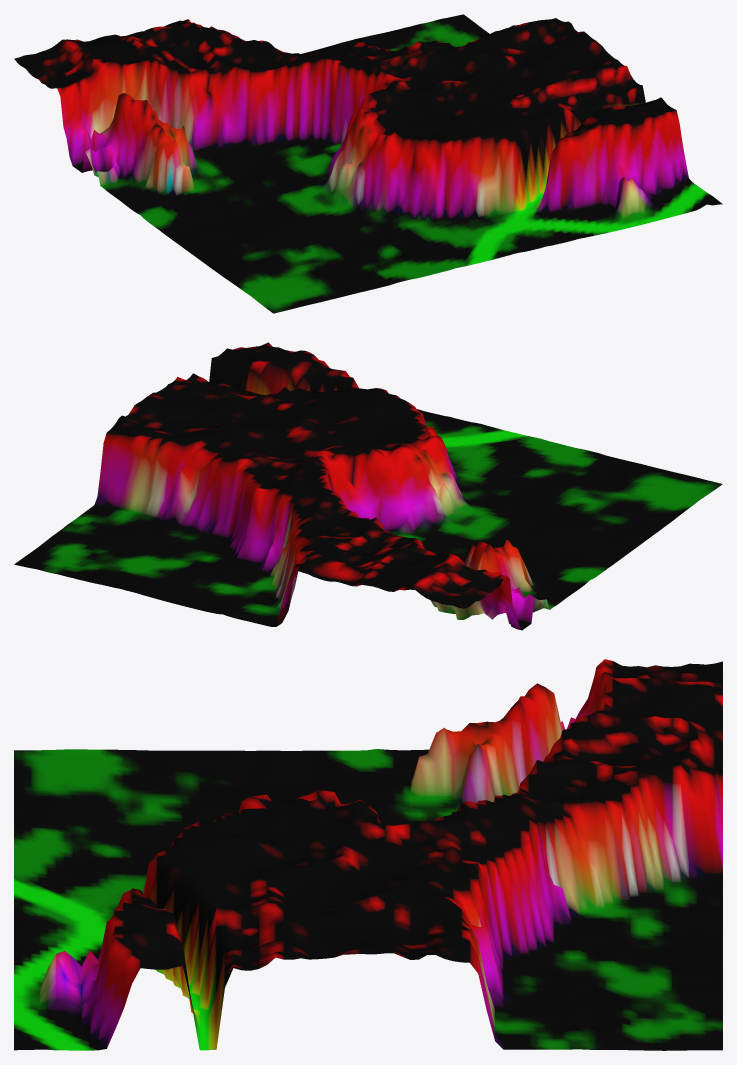
File: SM_AlUla_Terrain_3_1.fbx
The picture shows the model from 3 angles, top to bottom: view 1: azimuth 30°, elevation 25°; view 2: azimuth 150°, elevation 25°; view 3: azimuth 270°, elevation 25°; orthographic projection. The views are drawn at different scales.
Parts seen in each view (by area): view 1: SM_AlUla_Terrain_3_1; view 2: SM_AlUla_Terrain_3_1; view 3: SM_AlUla_Terrain_3_1.
Part boxes in pixels (x1,y1,x2,y2): SM_AlUla_Terrain_3_1: (14,14,722,313); SM_AlUla_Terrain_3_1: (14,342,722,630); SM_AlUla_Terrain_3_1: (14,659,722,1050).
Bounding box in the file's own units: 50400 × 8516 × 50400.
